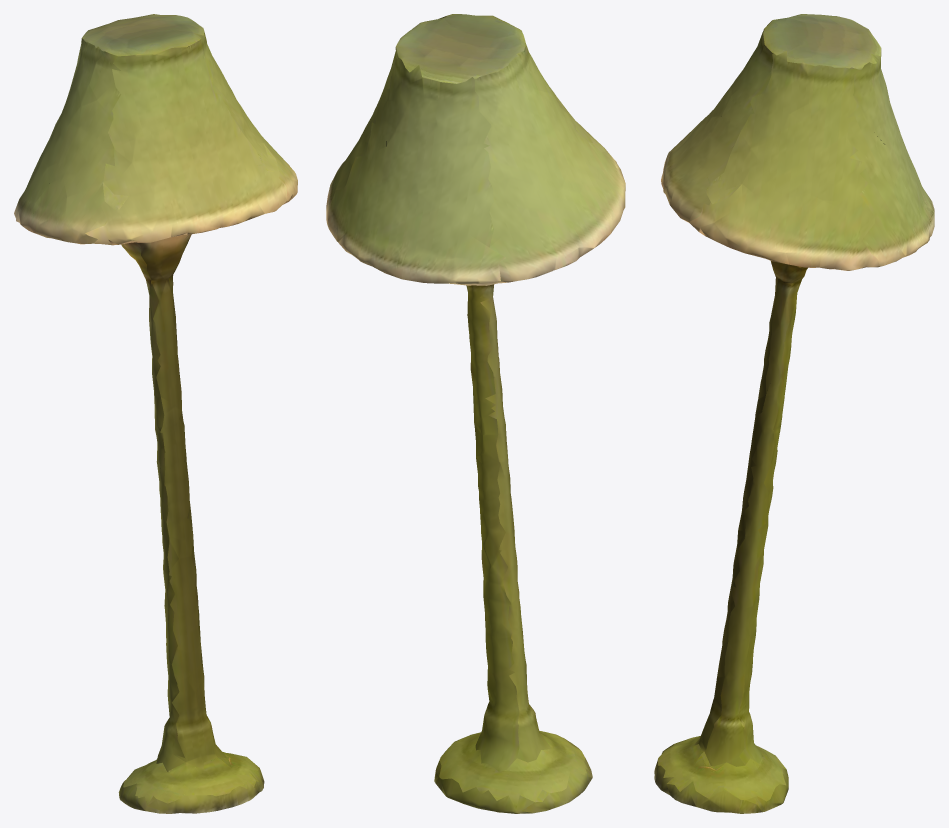
Rendered from standLamp.glb.
3 views of the same model, side by side, from view 1: azimuth 30°, elevation 25°; view 2: azimuth 150°, elevation 25°; view 3: azimuth 270°, elevation 25° (orthographic). The views are drawn at different scales.
Visible parts, largest first — view 1: world; view 2: world; view 3: world.
Boxes of the visible parts, x1,y1,x2,y2 form: world: (14, 14, 297, 813); world: (326, 14, 625, 813); world: (654, 14, 934, 813).
Size of the model in its own units: 0.3331 by 0.9439 by 0.3162.
Materials: 1 (1 with a texture image).
